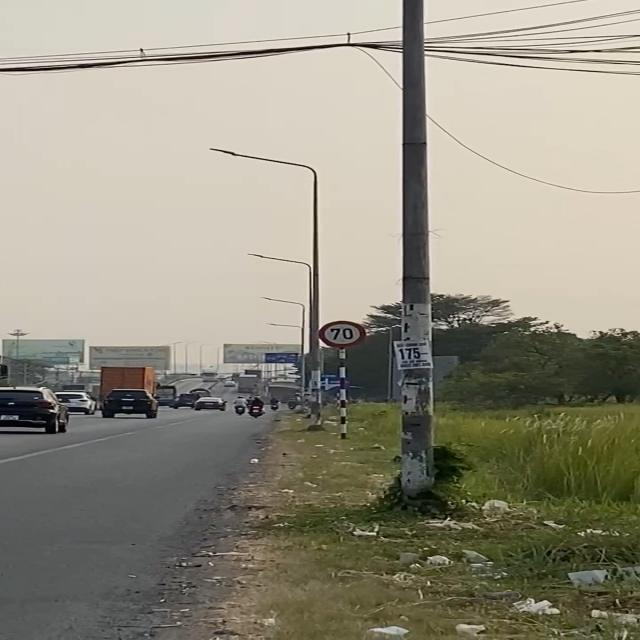127-toc-do-toi-da-70: (318, 320, 367, 348)
